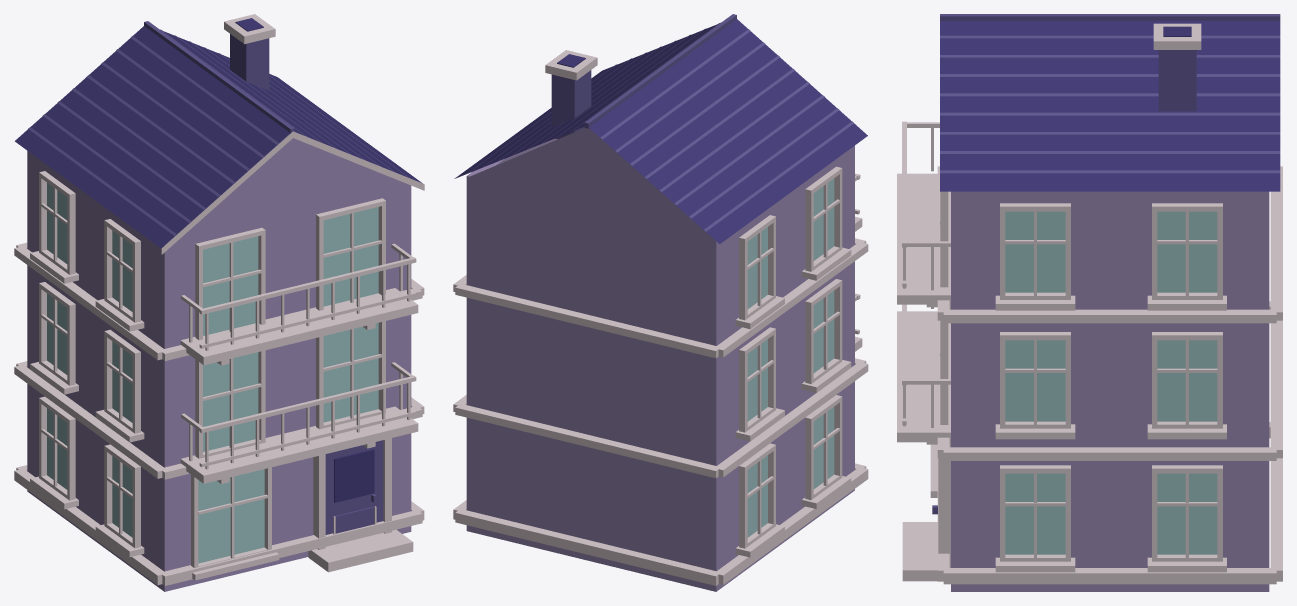
File: lilac-balcony.glb
3 views of the same model, side by side, from view 1: azimuth 30°, elevation 25°; view 2: azimuth 150°, elevation 25°; view 3: azimuth 270°, elevation 25° (orthographic). The views are drawn at different scales.
Visible parts, largest first — view 1: scenery; view 2: scenery; view 3: scenery.
Part boxes in pixels (x1,y1,x2,y2): scenery: (14,14,424,591); scenery: (453,14,868,591); scenery: (897,14,1282,591).
Size of the model in its own units: 3.04 by 4.72 by 3.15.
